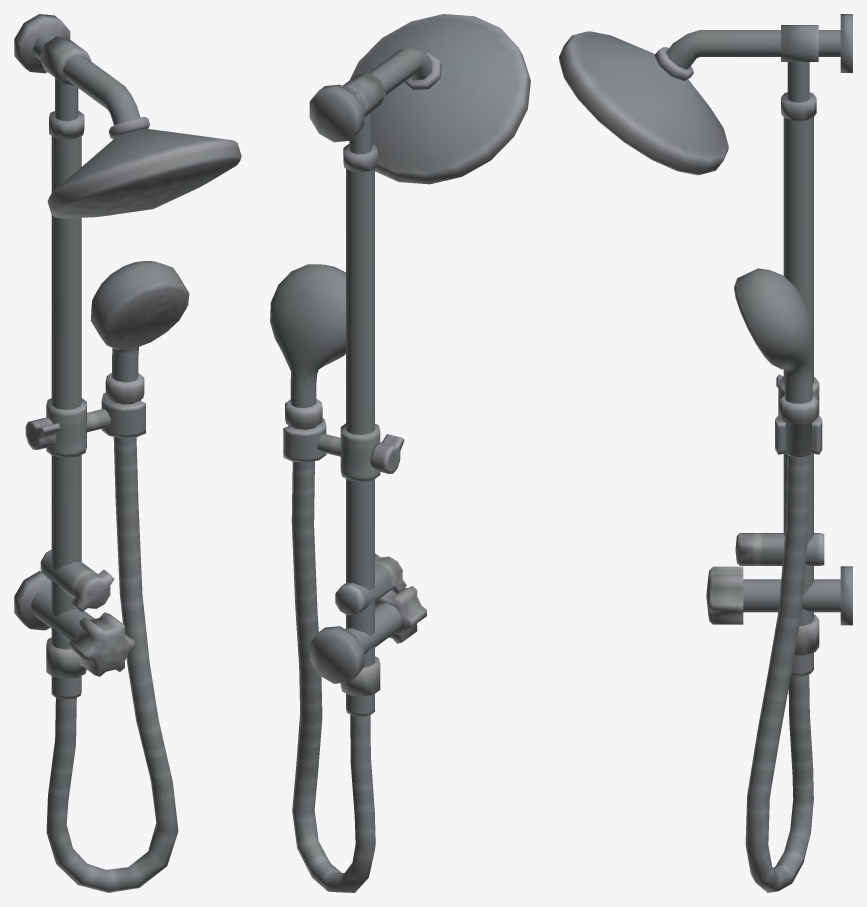
3 views of the same model, side by side, from view 1: azimuth 30°, elevation 25°; view 2: azimuth 150°, elevation 25°; view 3: azimuth 270°, elevation 25° (orthographic). The views are drawn at different scales.
Size of the model in its own units: 3.22 by 14.18 by 4.43.
Materials: 1 (1 with a texture image).
